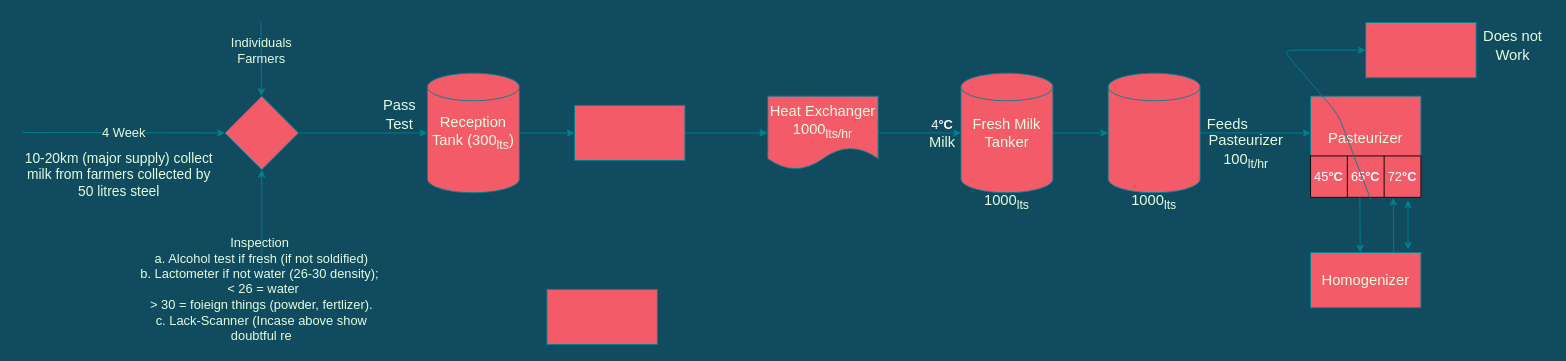
This 1566x361 diagram has some shape labels left out. The shapes that lost their labels are listed below. From the top down, each one's centre as x and y in pixels, then its label:
At (x=1420, y=50): "Cream Separator".
At (x=629, y=132): "Cloth Filter Small particles and fiber.".
At (x=1153, y=132): "Balance Tank".
